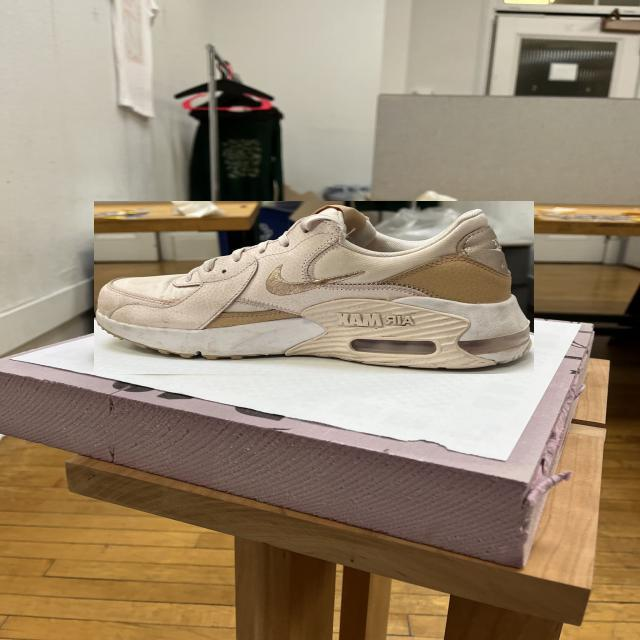shoe: (94, 201, 534, 374)
